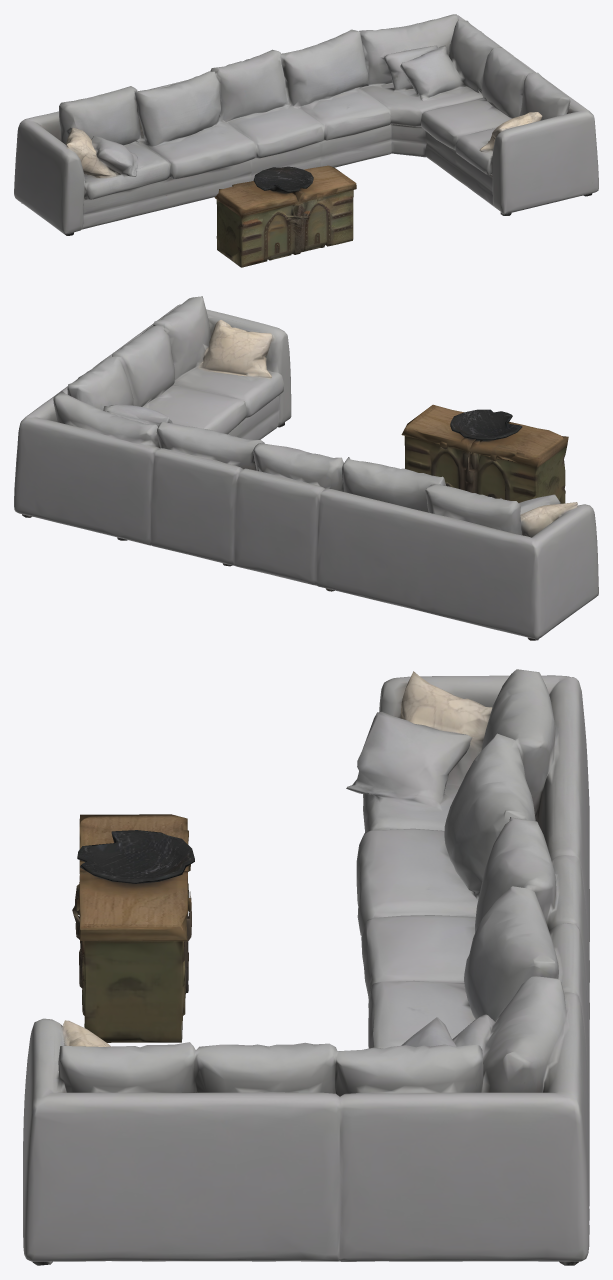
Rendered from kose-koltuk.glb.
3 renders of one model, top to bottom at view 1: azimuth 30°, elevation 25°; view 2: azimuth 150°, elevation 25°; view 3: azimuth 270°, elevation 25°, orthographic. The views are drawn at different scales.
Visible parts, largest first — view 1: tripo_node_96ab6a70-8021-4e2a-af0c-ff3a5fea6a96; view 2: tripo_node_96ab6a70-8021-4e2a-af0c-ff3a5fea6a96; view 3: tripo_node_96ab6a70-8021-4e2a-af0c-ff3a5fea6a96.
Boxes of the visible parts, left/top/right/bottom form: tripo_node_96ab6a70-8021-4e2a-af0c-ff3a5fea6a96: left=14, top=14, right=598, bottom=267; tripo_node_96ab6a70-8021-4e2a-af0c-ff3a5fea6a96: left=14, top=296, right=598, bottom=640; tripo_node_96ab6a70-8021-4e2a-af0c-ff3a5fea6a96: left=23, top=669, right=589, bottom=1265.
Bounding box in the file's own units: 1 × 0.2161 × 0.5483.
Materials: 1 (1 with a texture image).
